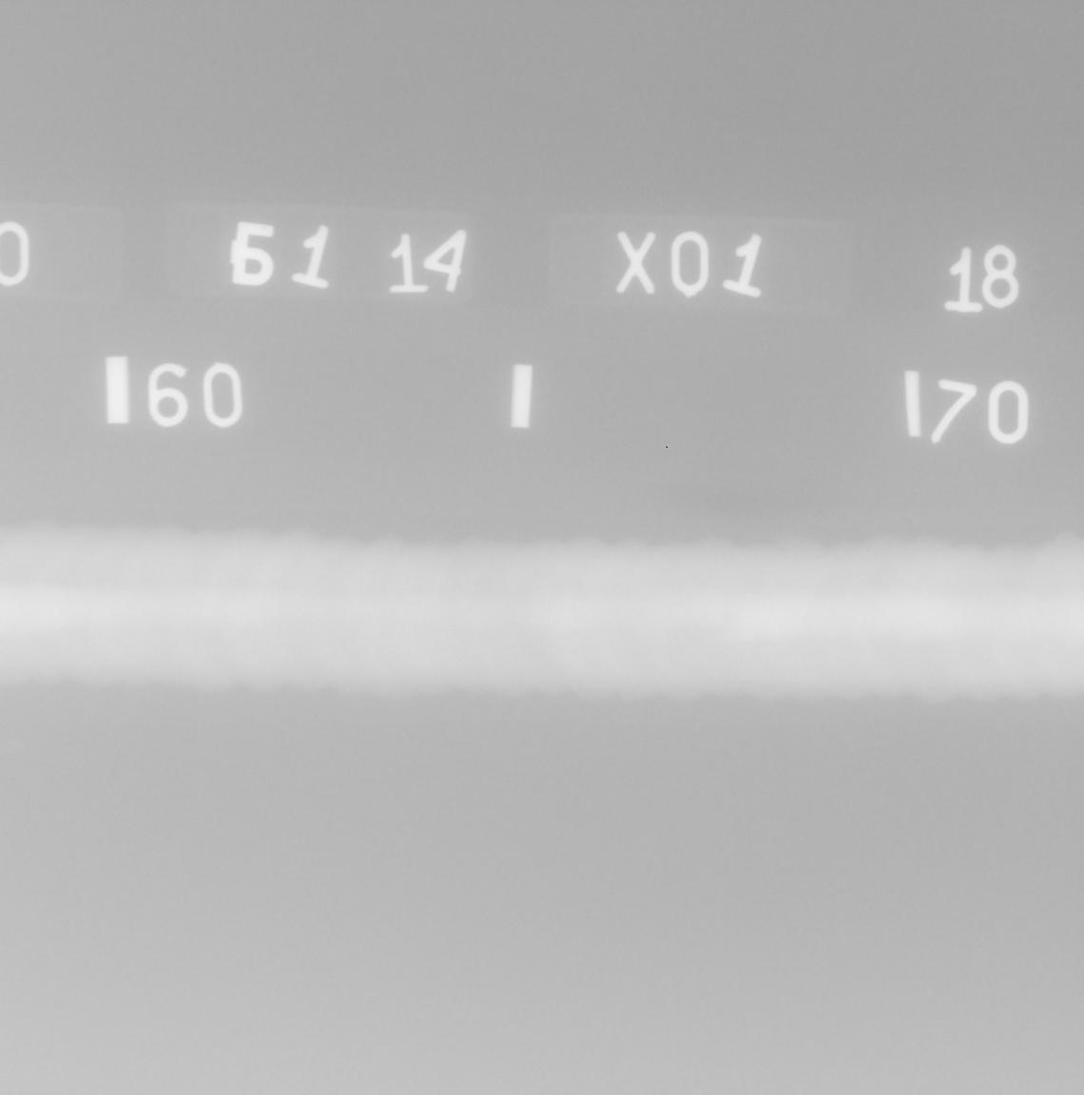Inclusion: (723, 610, 737, 623)
